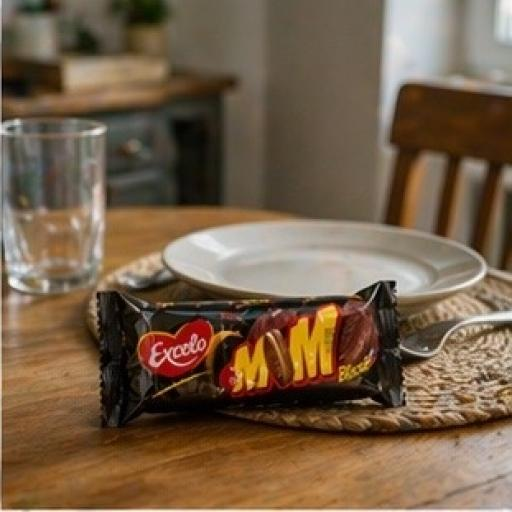MOMO: (85, 260, 421, 448)
